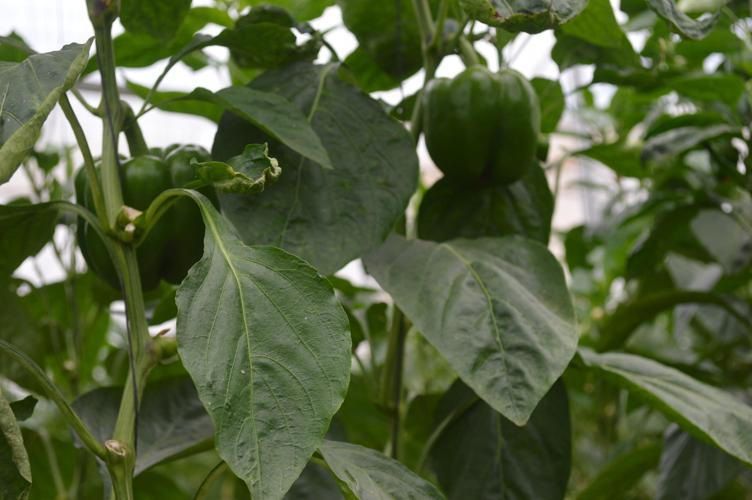BellPepper: (65, 148, 220, 283), (414, 58, 537, 185)
